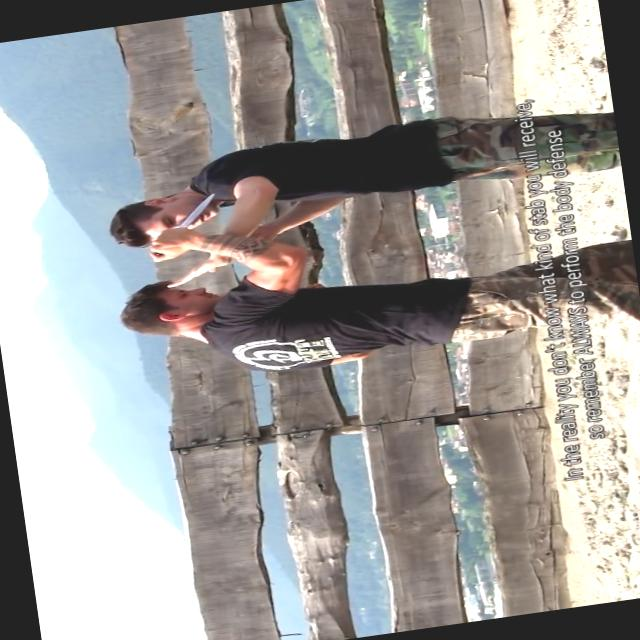knife: (137, 188, 227, 265)
